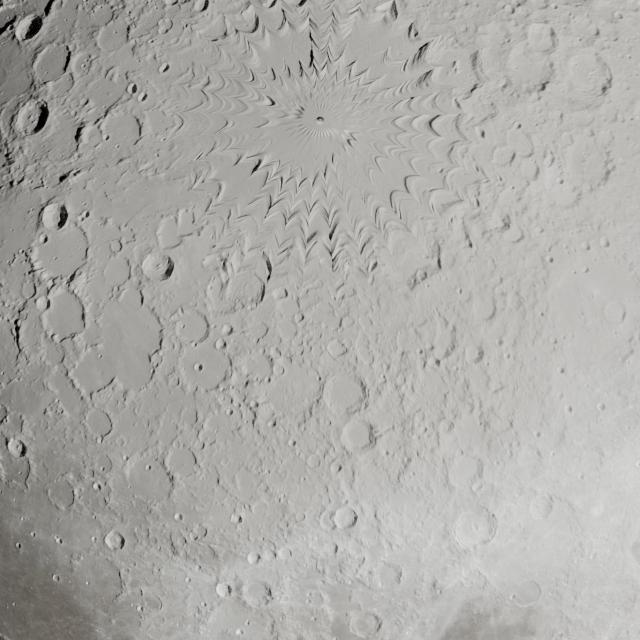crater: (40, 288, 86, 342), (562, 50, 610, 95), (321, 372, 363, 416), (453, 512, 494, 547), (548, 174, 584, 208), (120, 80, 152, 118), (174, 309, 208, 344), (14, 101, 47, 136), (466, 287, 498, 323), (230, 466, 264, 498), (340, 419, 372, 451), (165, 445, 197, 476), (4, 453, 32, 487), (84, 407, 114, 437), (512, 444, 542, 474), (507, 579, 539, 607), (141, 252, 173, 280), (348, 610, 379, 638), (526, 493, 554, 521), (15, 14, 43, 42), (242, 580, 270, 607), (41, 202, 68, 230), (206, 274, 228, 306), (407, 266, 433, 292), (201, 411, 227, 437), (332, 505, 358, 530), (602, 300, 627, 326), (378, 561, 403, 585), (492, 145, 516, 167), (6, 436, 28, 458), (104, 530, 126, 551), (518, 158, 540, 179), (464, 344, 484, 365), (319, 510, 339, 531), (326, 339, 348, 358), (20, 278, 37, 300), (504, 225, 524, 243), (143, 594, 162, 612), (306, 590, 324, 608), (591, 498, 608, 516), (277, 545, 294, 561), (156, 18, 172, 33), (307, 453, 321, 468), (36, 295, 49, 311), (272, 287, 288, 300), (192, 524, 206, 538), (192, 1, 209, 12), (272, 363, 284, 376), (78, 209, 90, 222), (599, 235, 611, 248), (214, 338, 226, 350), (472, 480, 484, 492), (220, 324, 232, 336), (110, 240, 122, 252), (503, 4, 516, 15), (194, 438, 205, 450), (329, 542, 339, 555), (634, 541, 640, 562), (74, 487, 84, 499), (38, 233, 48, 245), (189, 531, 200, 541), (294, 312, 304, 323), (580, 240, 590, 250), (268, 418, 277, 428), (92, 482, 101, 491), (194, 363, 203, 372), (249, 399, 258, 408), (597, 402, 606, 411), (54, 535, 62, 545), (225, 408, 234, 416), (52, 574, 61, 582), (102, 133, 110, 142), (546, 255, 554, 263), (90, 536, 98, 544), (558, 366, 566, 374), (136, 606, 144, 614), (534, 430, 542, 438), (98, 465, 106, 473), (589, 552, 597, 560), (144, 464, 152, 471), (566, 406, 573, 414), (582, 266, 590, 273), (184, 576, 191, 583), (30, 530, 36, 538), (110, 618, 117, 624), (122, 454, 128, 460)
rock: (591, 149, 619, 192), (485, 208, 511, 234), (413, 68, 436, 92), (246, 278, 266, 304), (468, 50, 484, 80), (413, 40, 431, 64), (12, 316, 24, 350), (58, 167, 79, 185), (74, 122, 90, 145), (0, 17, 15, 40), (42, 0, 58, 18), (62, 48, 72, 76), (216, 582, 232, 599), (263, 256, 273, 281), (408, 21, 420, 40), (250, 158, 263, 175), (387, 2, 399, 20), (247, 551, 260, 565), (308, 46, 315, 71), (126, 83, 139, 95), (158, 62, 170, 74), (230, 513, 242, 524), (174, 512, 184, 522), (15, 542, 23, 550), (509, 594, 517, 602), (236, 627, 243, 635), (244, 619, 250, 626), (200, 601, 207, 607), (84, 580, 90, 586), (310, 616, 316, 622), (11, 602, 16, 607)
